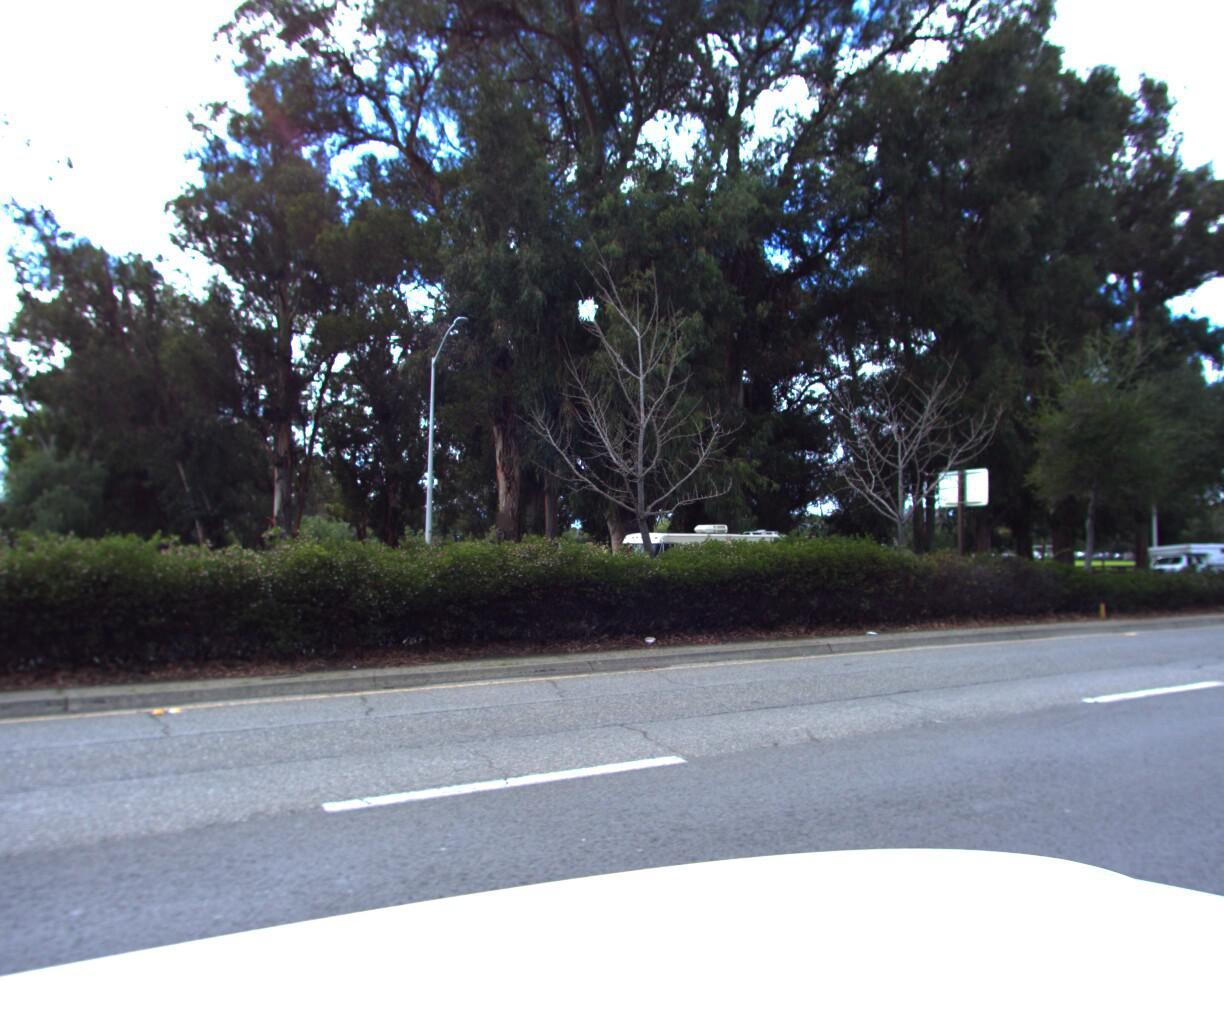other_vehicle: (594, 525, 803, 623), (1111, 539, 1224, 592)
